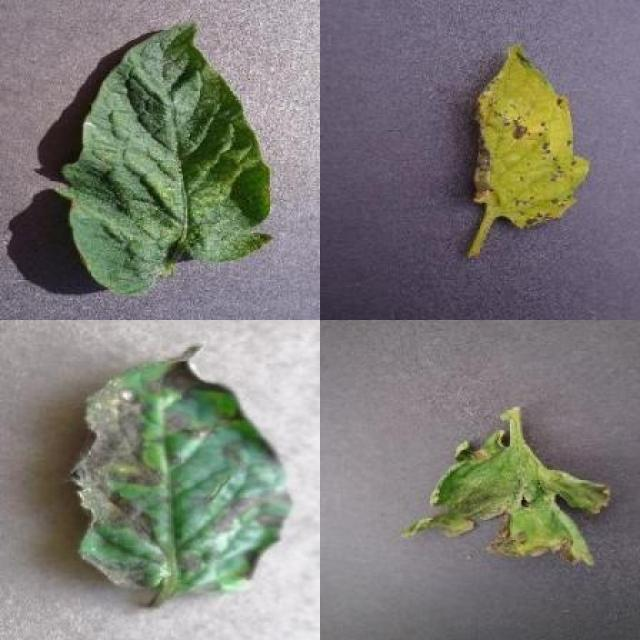Early Blight: (69, 345, 294, 589)
Late Blight: (398, 426, 612, 568)
Septoria: (469, 42, 594, 228)
Spider Mites: (67, 20, 274, 297)
